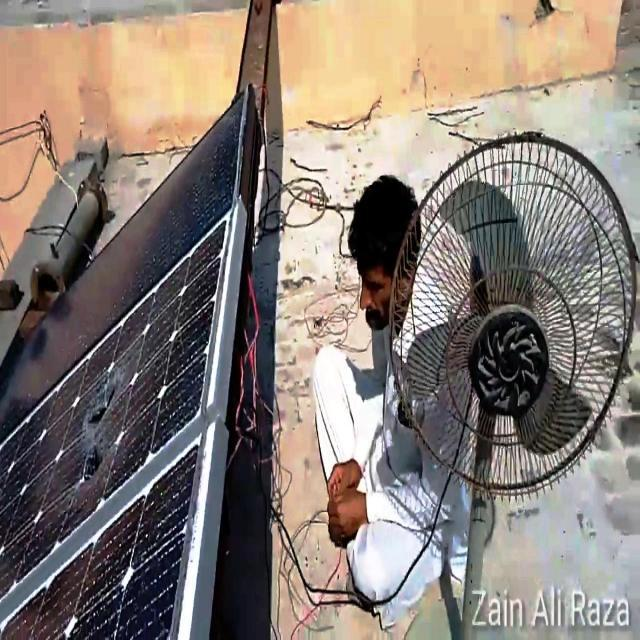faulty: (0, 208, 253, 573), (4, 84, 252, 436), (0, 445, 204, 638)
